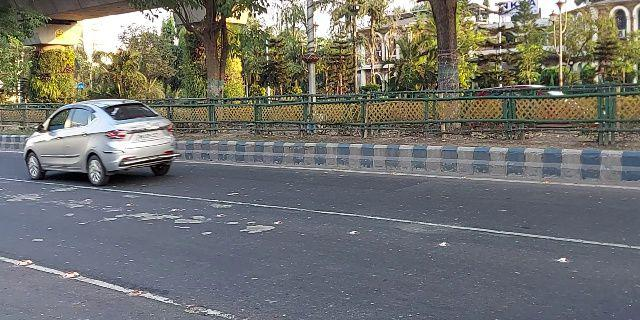Car: (22, 97, 178, 184)
